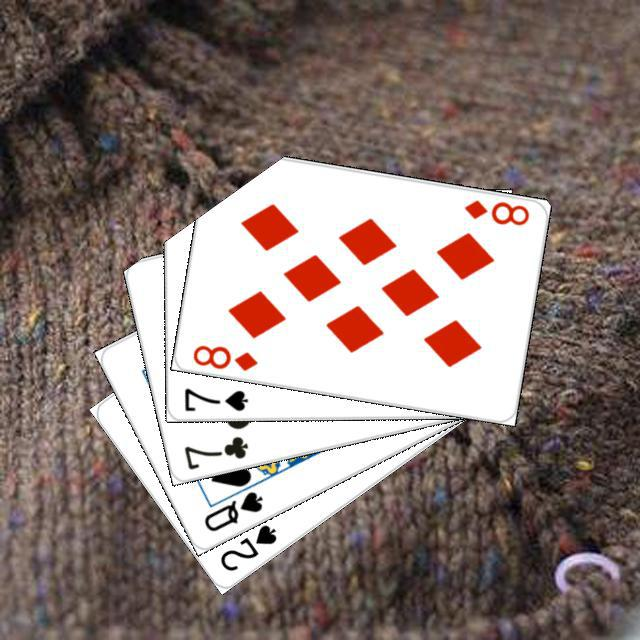2s: (215, 519, 279, 573)
7c: (179, 431, 250, 472)
7s: (180, 383, 250, 413)
8d: (188, 340, 259, 373), (460, 194, 531, 227)
Qs: (199, 486, 265, 533)
